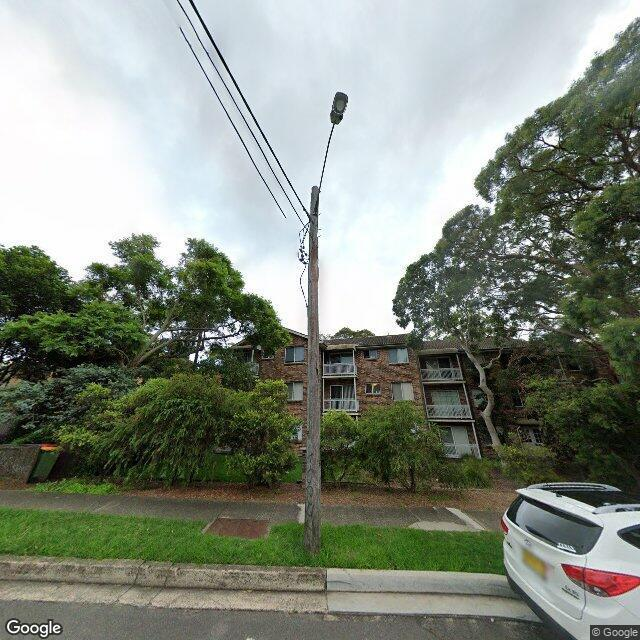streetlight: (312, 91, 348, 216)
timber-pole: (303, 186, 320, 552)
